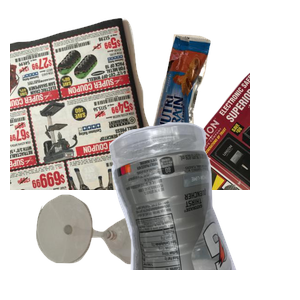glass: (34, 192, 187, 300)
paper: (10, 15, 250, 195)
plastic: (106, 120, 300, 300)
trash: (149, 31, 300, 179)
